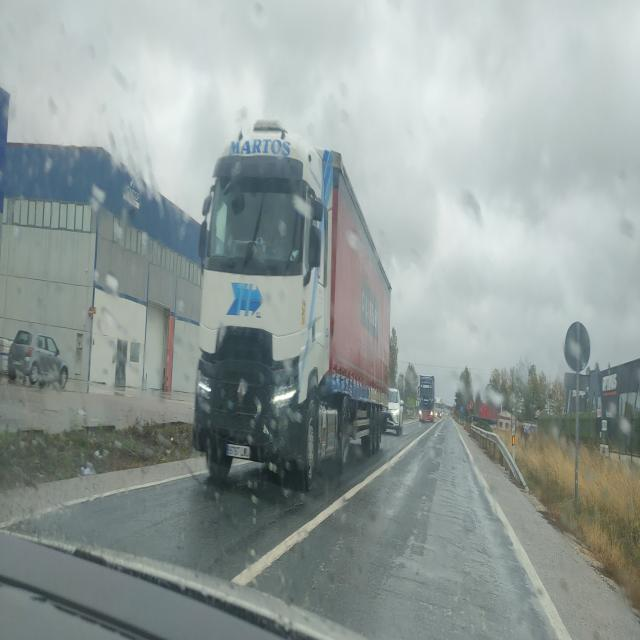Poth-hole: (409, 579, 506, 640)
